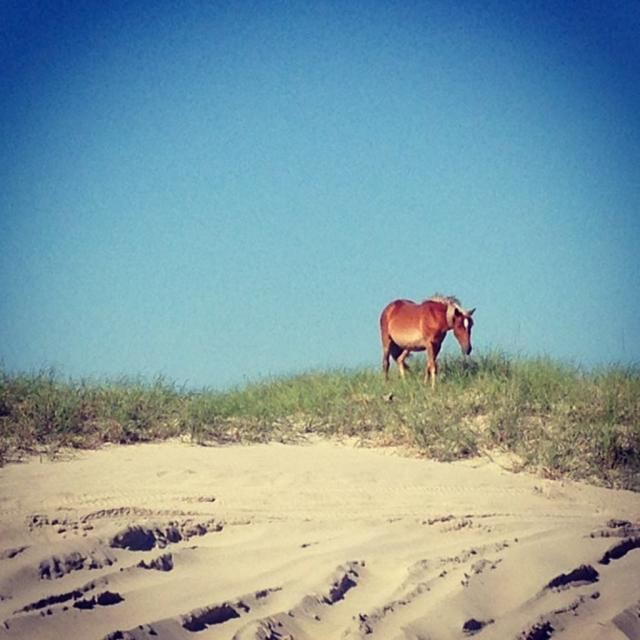Horse: (380, 292, 474, 390)
